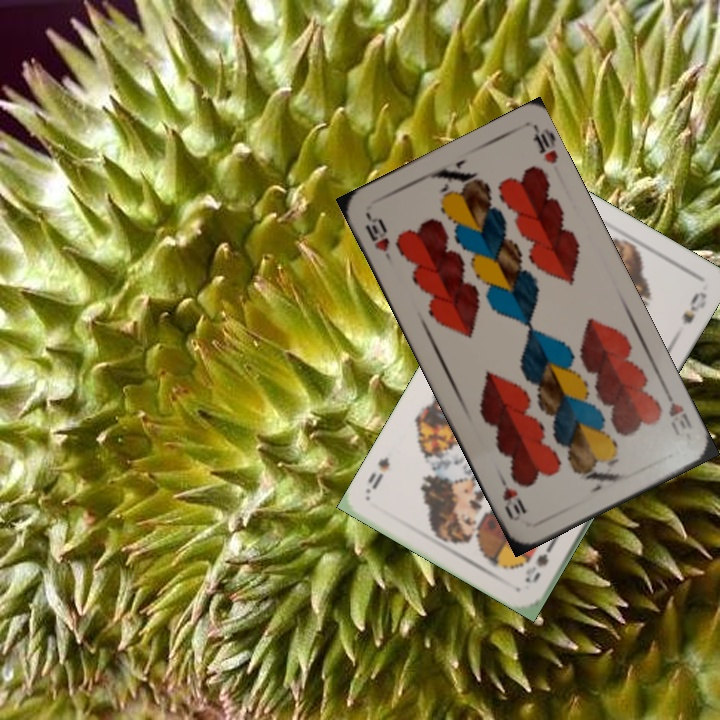H10: (361, 210, 396, 266), (660, 385, 695, 439)
SO: (520, 535, 559, 586)
